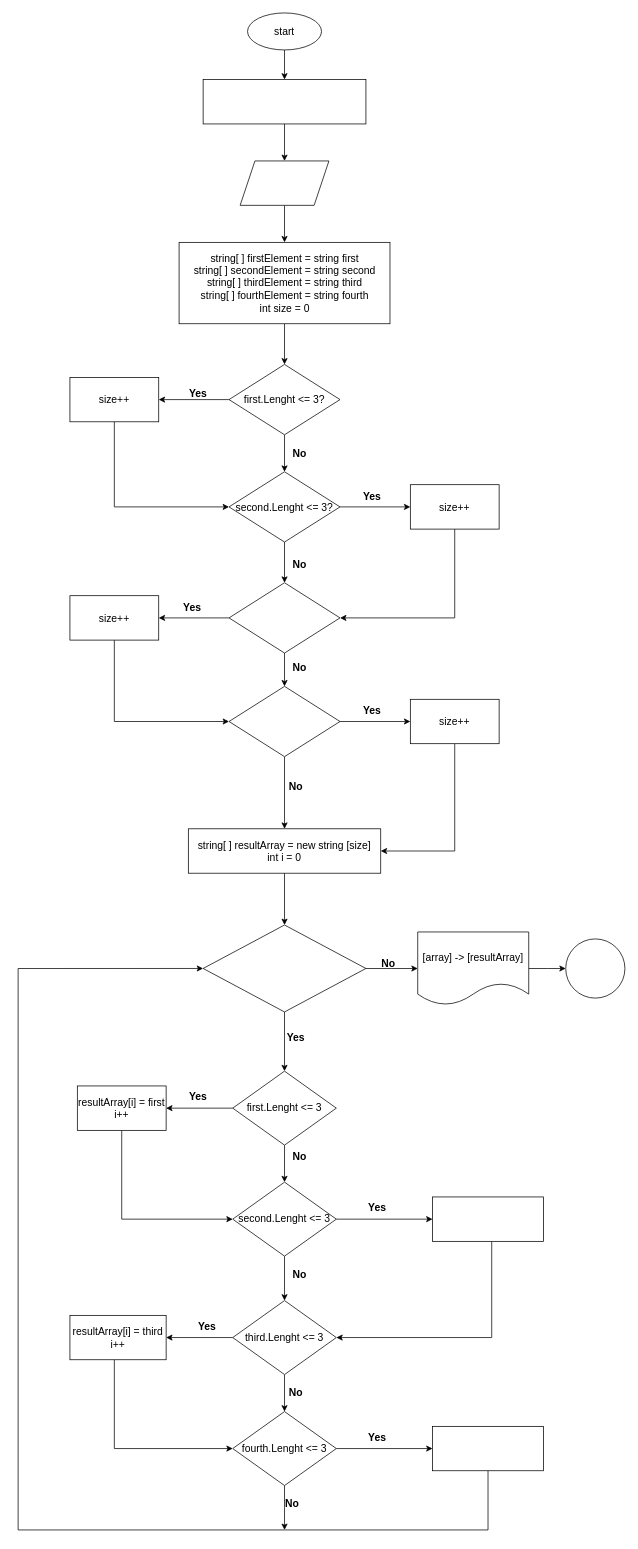
Some shapes in this 638 by 1549 pixel diagram are drawn without their labels. Here are the shapes that lost their labels. From the top down, the box of each, then its label:
(202, 79, 366, 124): int lenght = 4 string[ ] array = new string [lenght]
(239, 160, 329, 205): array
(228, 582, 340, 653): third.Lenght <= 3?
(228, 686, 340, 757): fourth.Lenght <= 3?
(202, 924, 366, 1012): i < result.Array.Lenght
(565, 938, 625, 998): end
(432, 1196, 544, 1241): resultArray[i] = second i++
(432, 1426, 544, 1471): resultArray[i] = fourth i++
